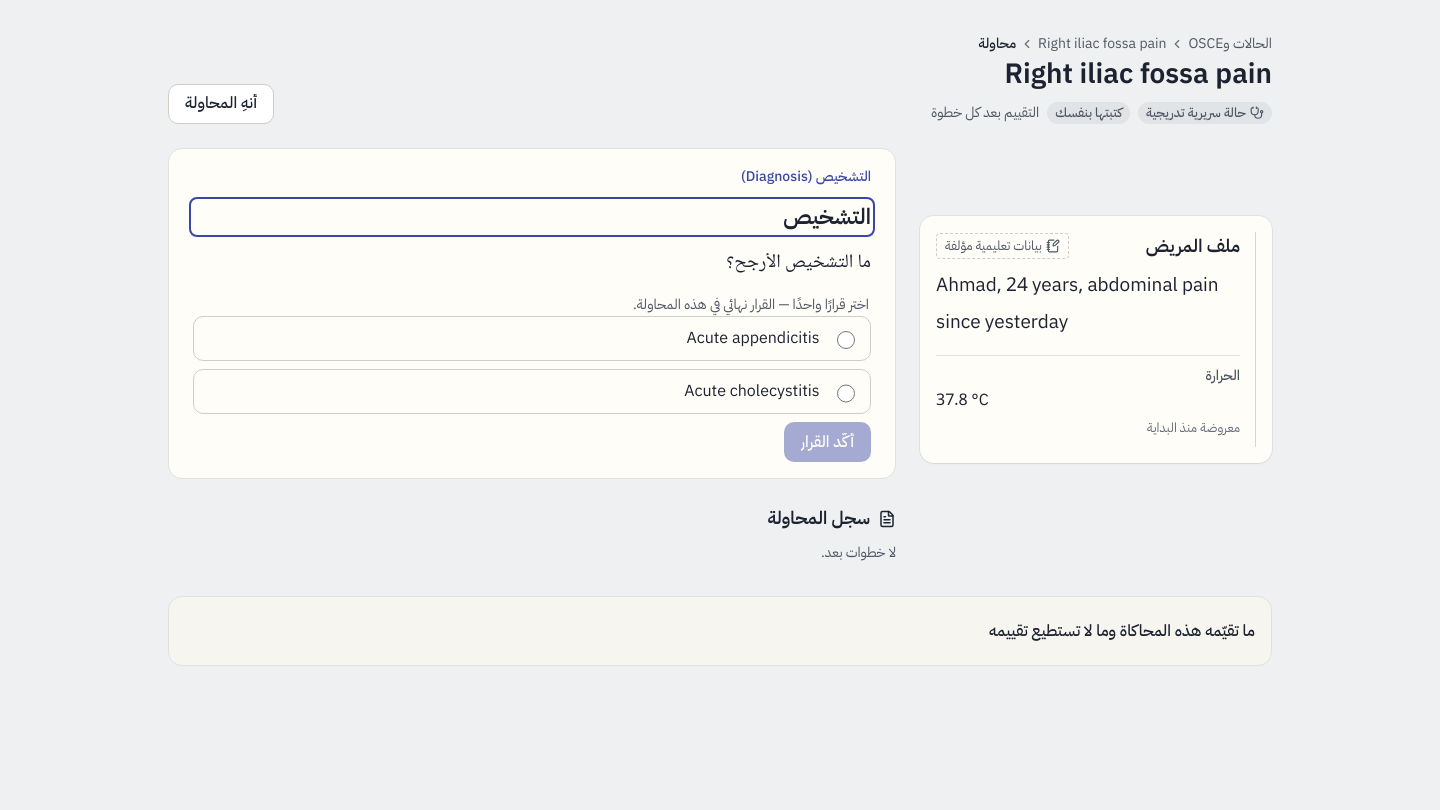
Test: case runner › shows revealed facts with the authored label and decision labels only; a confirmed choice is an event
Expected: the heading "ملف المريض" is shown, 1146,232 -> 1240,261
Expected: the text "بيانات تعليمية مؤلفة" is shown, 936,233 -> 1069,259
What coordinates should you click on to do the following:
click the radio button labelled "Acute appendicitis"
I would click on:
 (846, 340)
Its box is 837,331 -> 855,349.
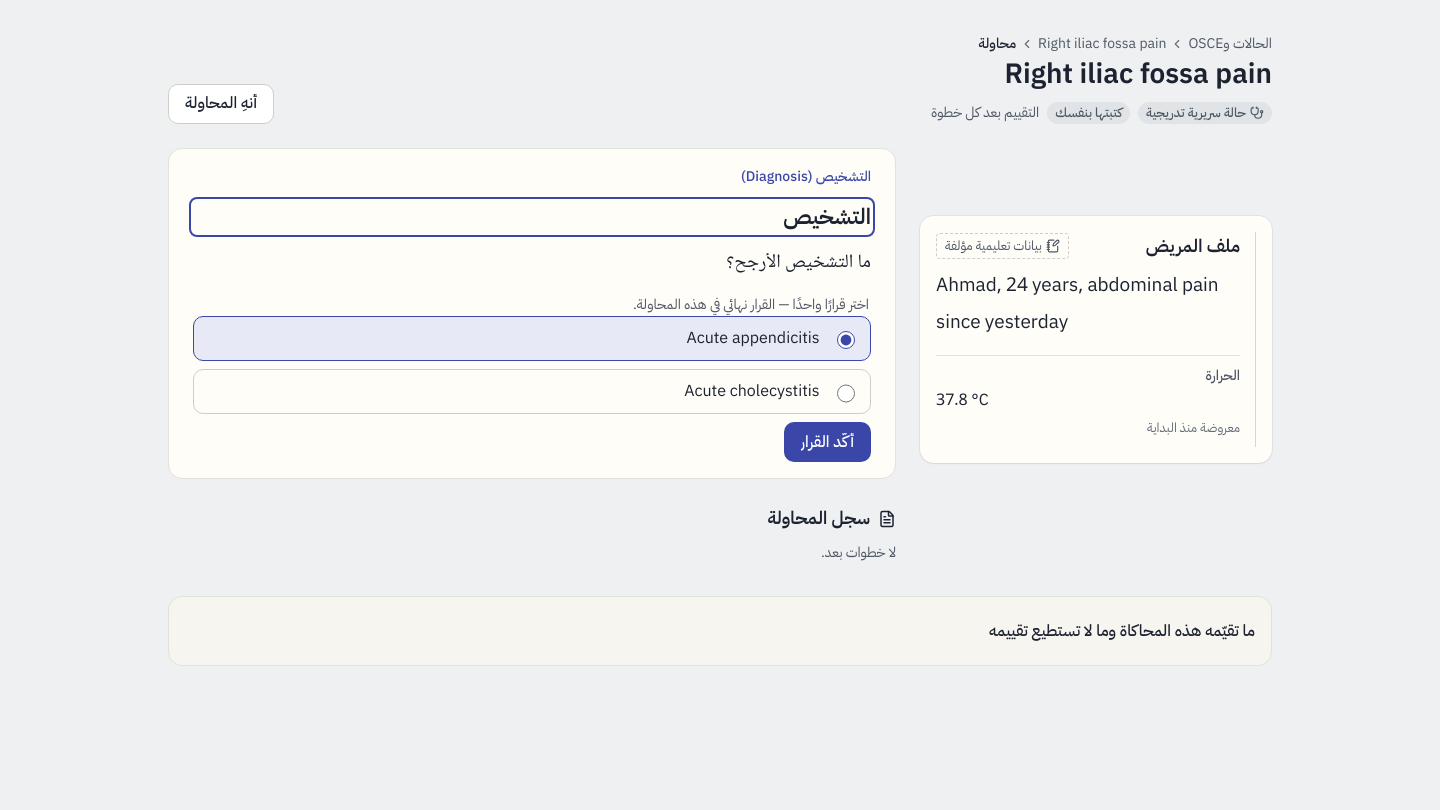
What coordinates should you click on to do the following:
click the button "أكّد القرار"
I would click on:
 (827, 442)
Its box is 784,422 -> 871,462.
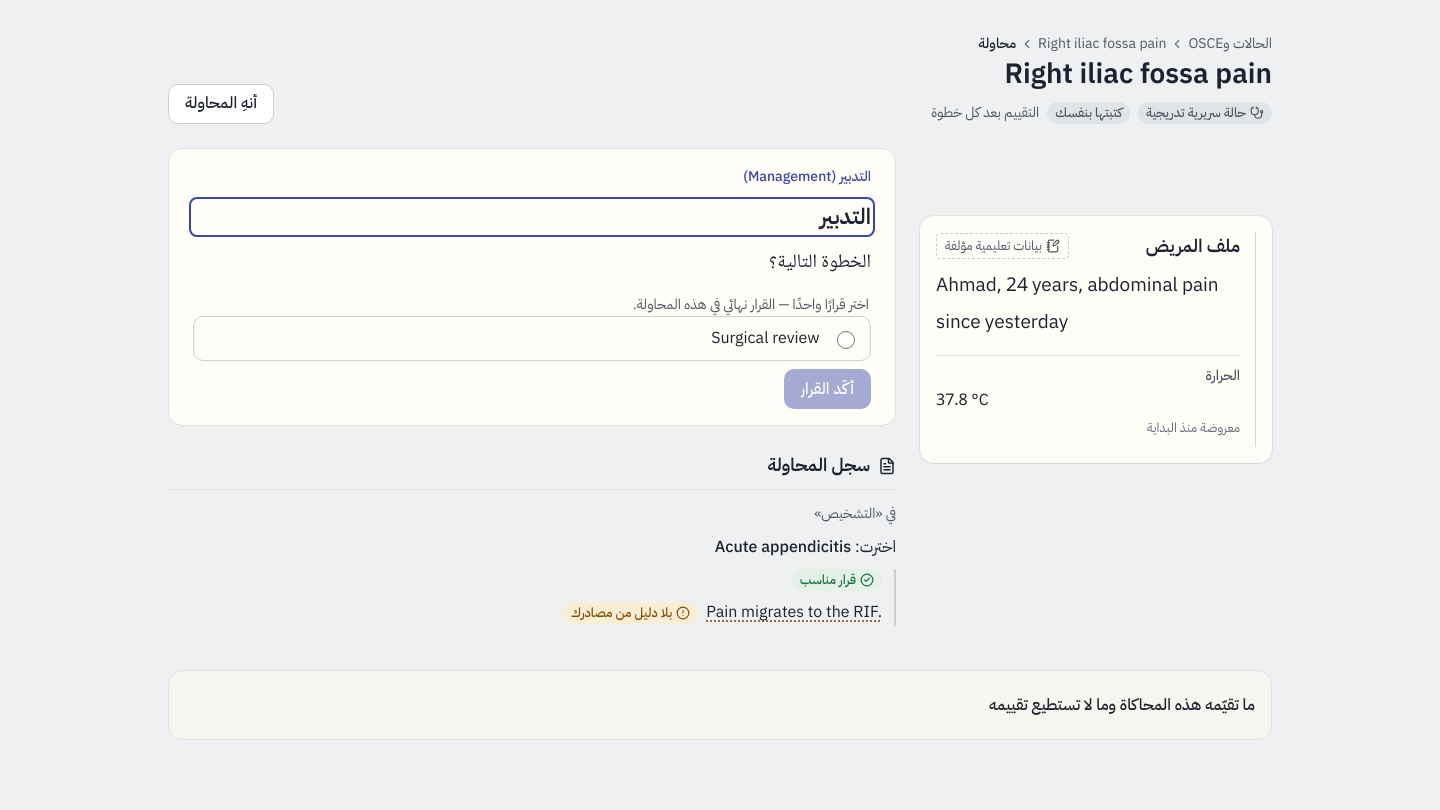
Expected: the heading "التدبير" is shown, 820,200 -> 871,233
Expected: the text "قرار مناسب" is shown, 800,570 -> 856,590
Expected: the text "بلا دليل من مصادرك" is shown, 571,602 -> 672,623
